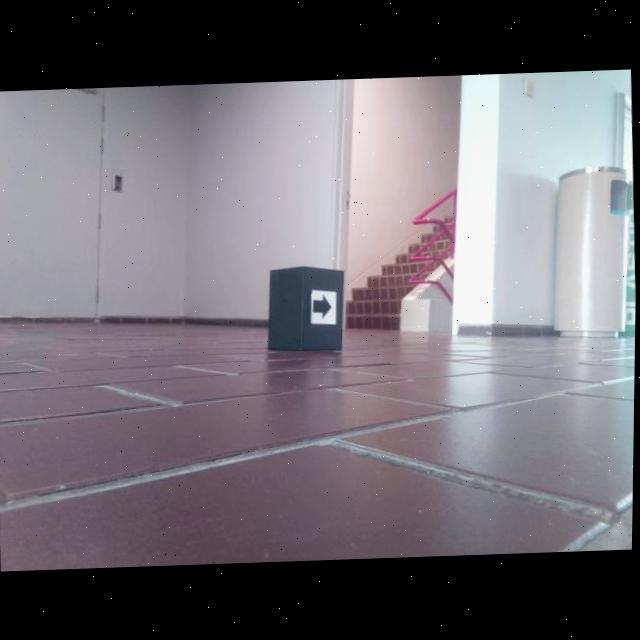RIGHT: (313, 293, 333, 320)
